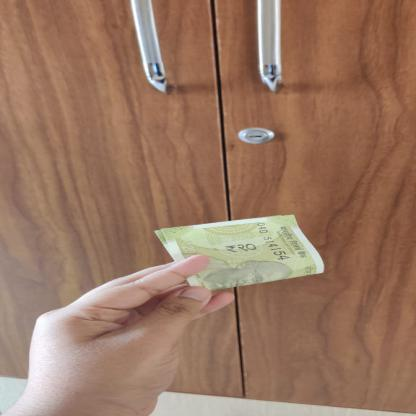New20Front: (149, 213, 328, 291)
